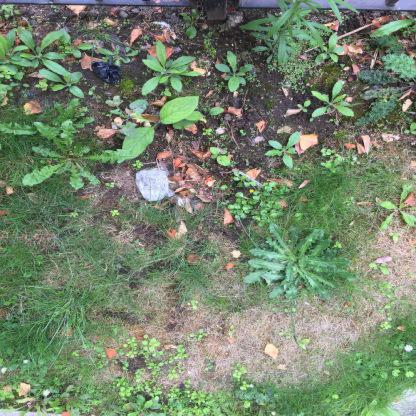Plastic bag - wrapper: (136, 162, 176, 201), (92, 57, 122, 83), (168, 194, 201, 210)
